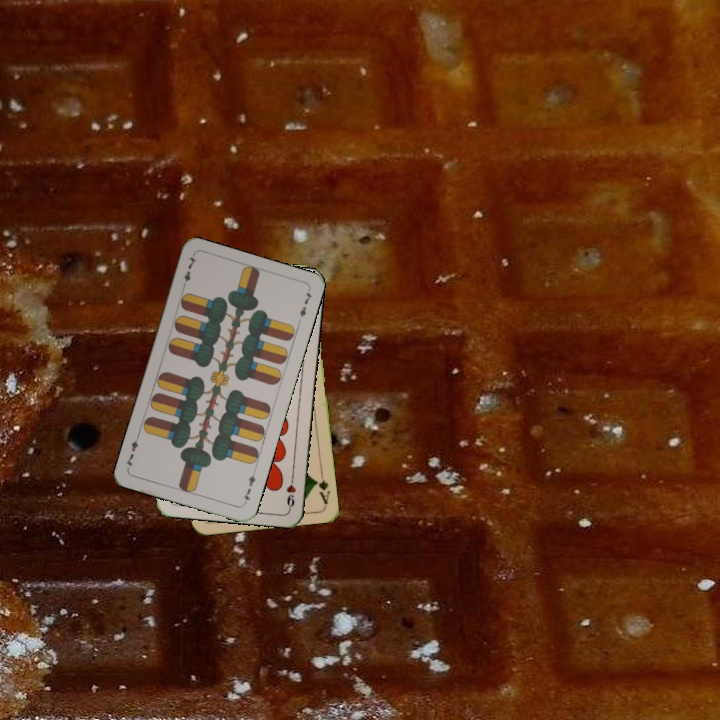E7: (178, 251, 199, 291), (238, 471, 258, 507)
GA: (311, 466, 333, 507)
H9: (282, 471, 298, 511)
